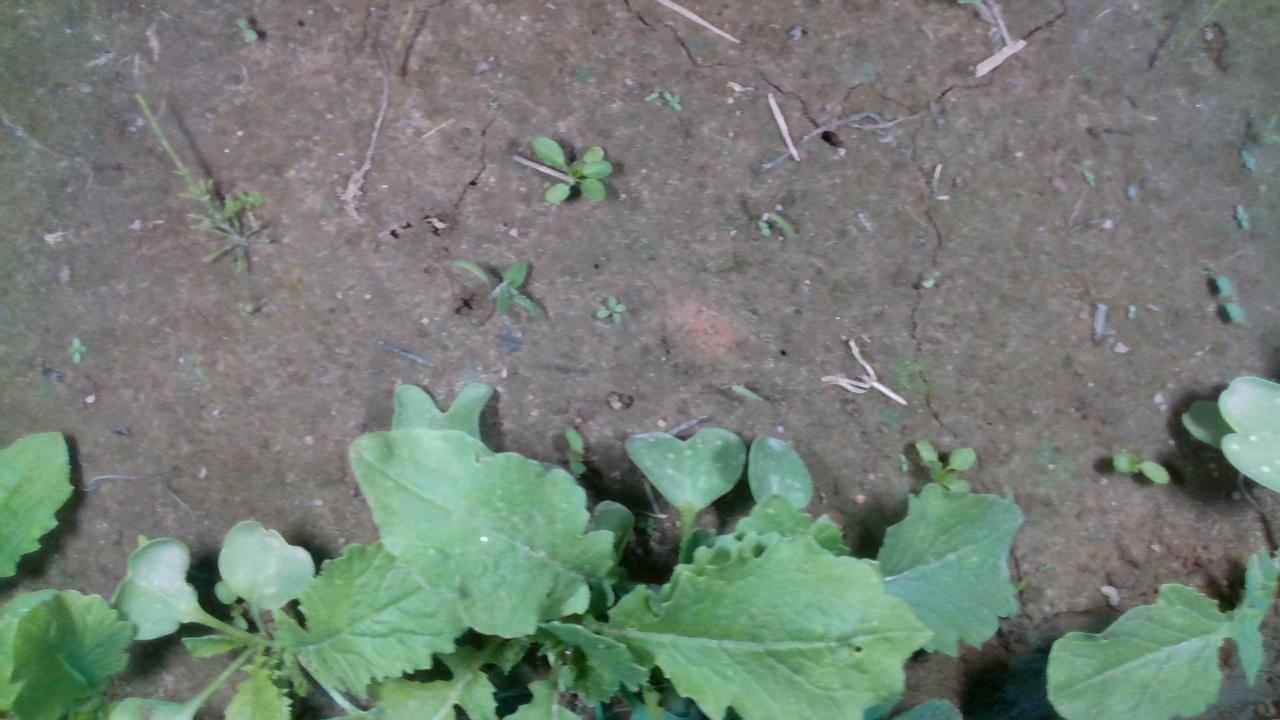weed: (1110, 450, 1170, 485), (1213, 271, 1244, 325), (592, 293, 626, 326), (235, 13, 259, 44), (63, 334, 87, 364), (1232, 203, 1250, 230), (1239, 147, 1257, 171)
